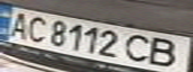1: (81, 24, 103, 55), (63, 21, 84, 52)
2: (96, 27, 124, 60)
8: (45, 18, 69, 47)
A: (3, 9, 33, 39)
B: (145, 35, 190, 70)
C: (124, 31, 160, 64), (21, 14, 51, 43)
